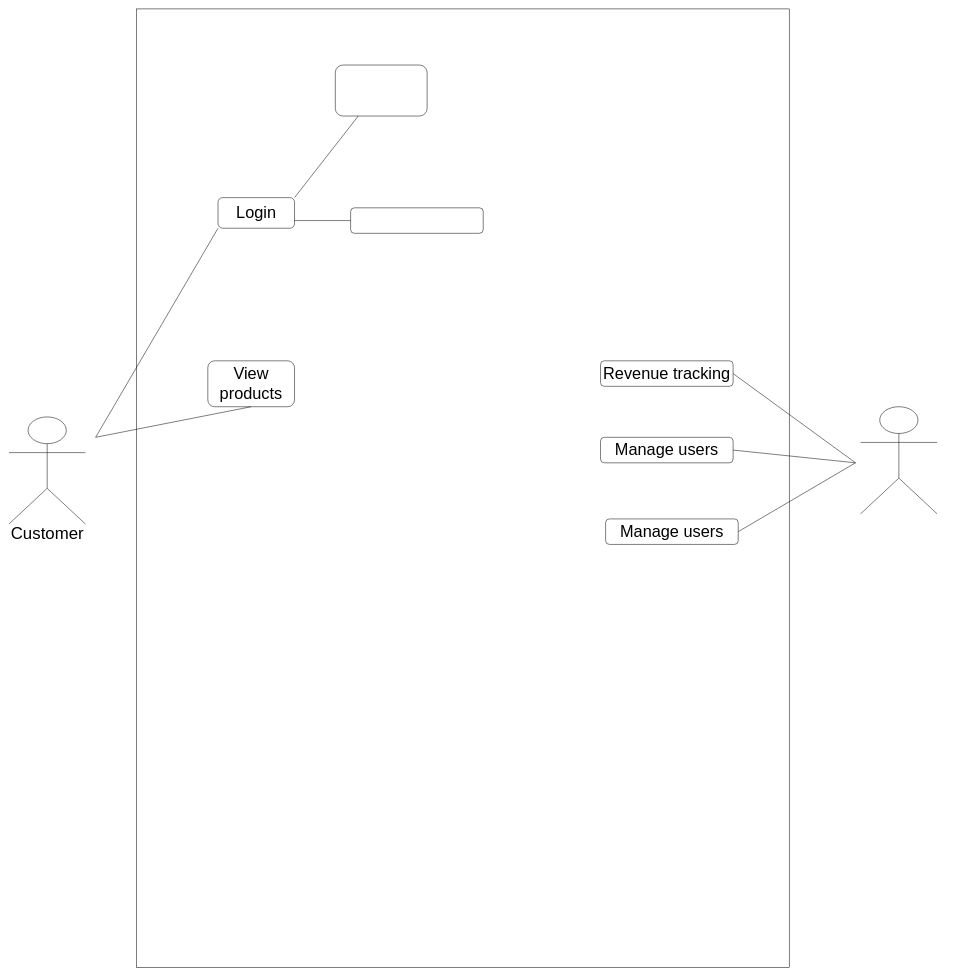
Image size: 957x977. Some labels were removed from this diagram. Here are the shapes that lost their labels. From the top down, the box of each, then its label:
(335, 65, 427, 116): Access Website
(350, 207, 483, 233): Login error
(860, 406, 937, 514): Administrator
